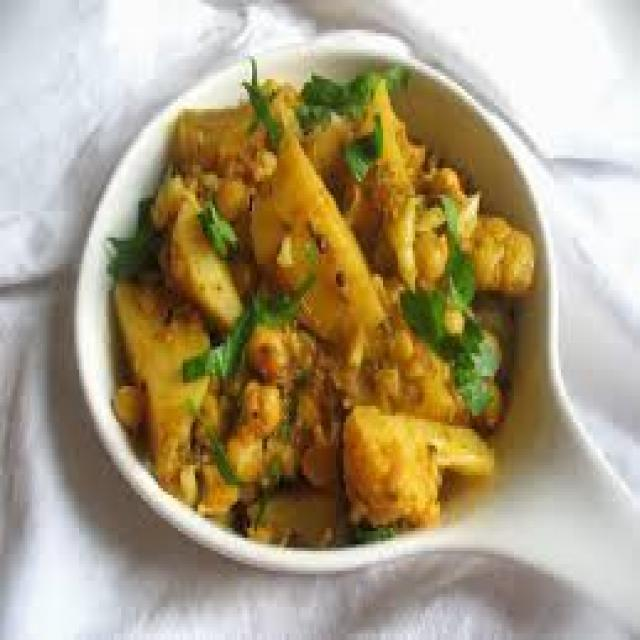Aloo Gobi: (172, 91, 491, 542)
